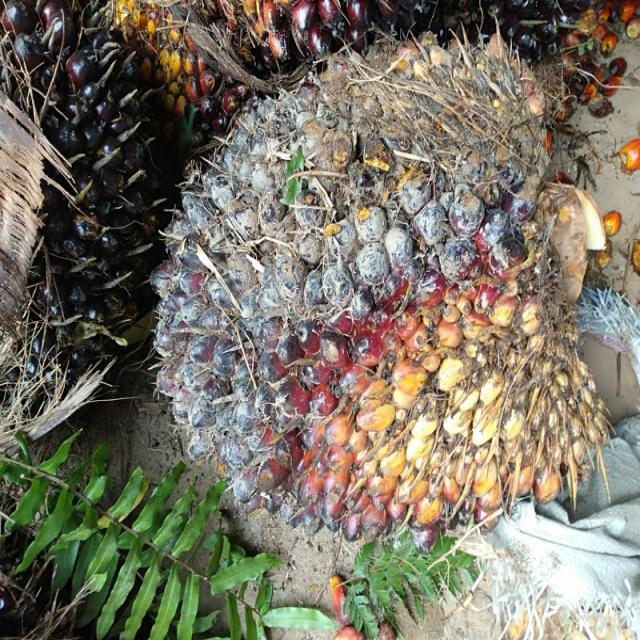fraksi 00: (157, 45, 608, 538)
